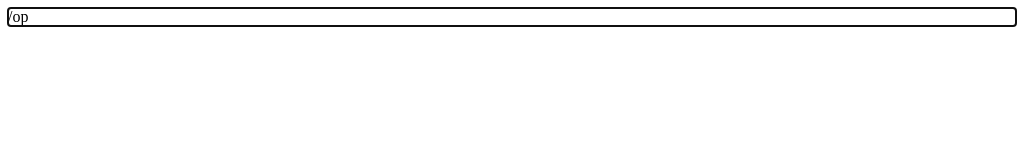
Test: pills in RichMentionInput › turns a picked / command into a command pill and an @ entity into an entity pill
Later steps or results of the test are not shown.
Clear the field at {"x": 18, "y": 16}, box [8, 8, 28, 25]
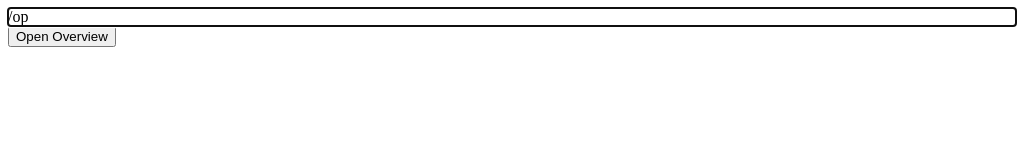
Expected: the list is shown, [8, 26, 116, 47]
Press Enter in the field, box [8, 8, 28, 25]
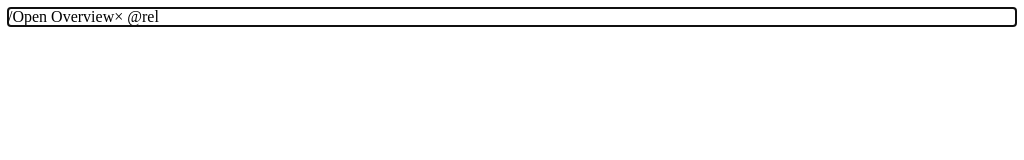
Clear the field at {"x": 83, "y": 16}, box [8, 8, 159, 25]
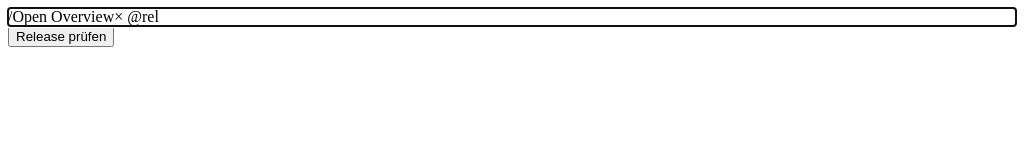
Expected: the list is shown, [8, 26, 114, 47]
